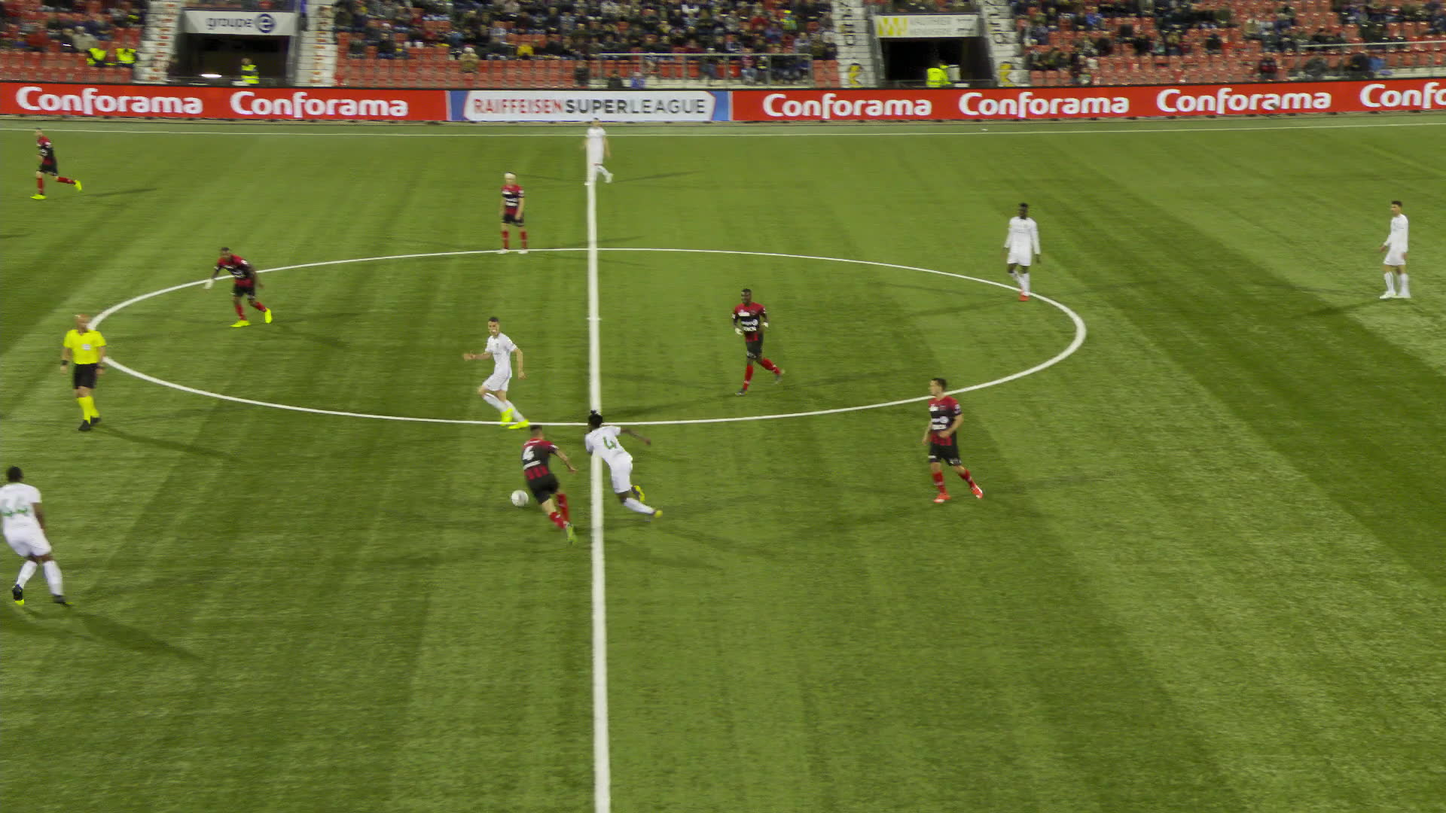ball: (512, 489, 528, 505)
player: (0, 465, 73, 606), (582, 407, 666, 519), (464, 312, 529, 427), (923, 373, 977, 503), (522, 427, 579, 542), (203, 245, 272, 327), (734, 288, 781, 392), (1002, 201, 1038, 300), (29, 128, 75, 199), (1378, 200, 1411, 297), (493, 172, 526, 254), (579, 117, 610, 185)
referee: (59, 317, 114, 433)
